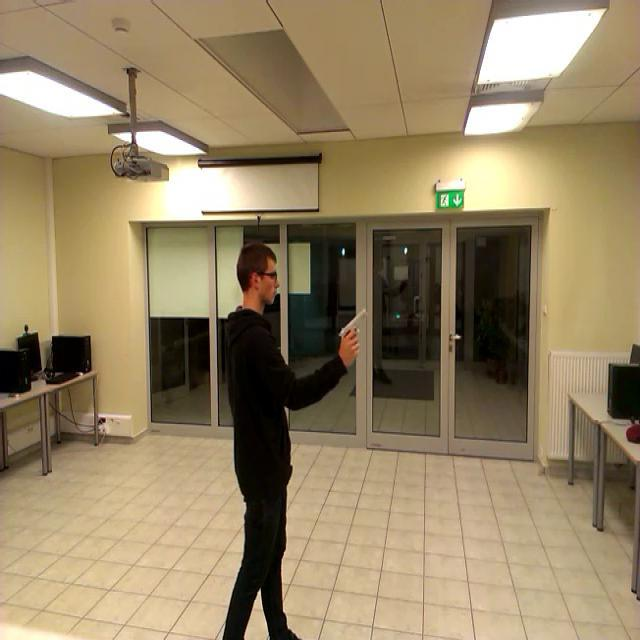Gun: (338, 307, 368, 345)
